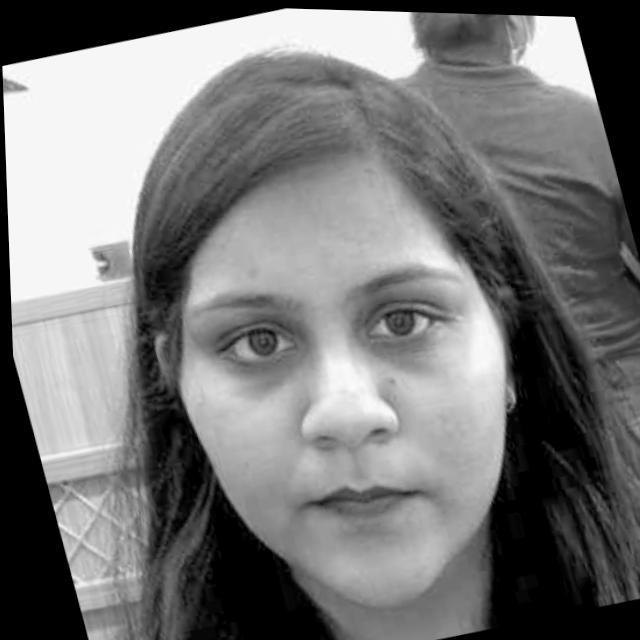Puffy Eyes - v3 Dark Circle: (227, 324, 310, 398), (358, 324, 451, 361)
